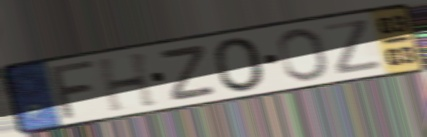F: (49, 57, 100, 122)
H: (95, 49, 162, 115)
O: (211, 35, 269, 94), (275, 26, 331, 83)
Z: (321, 16, 386, 77), (159, 42, 218, 104)
